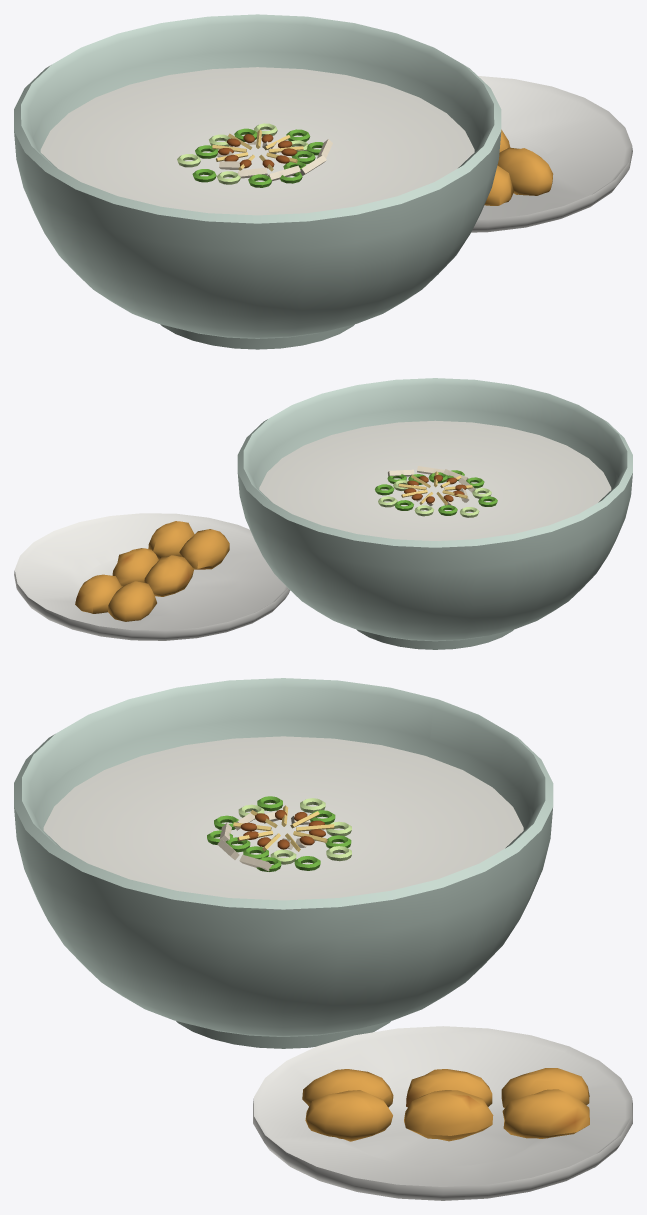
File: dish-congee-lod1.glb
The picture shows the model from 3 angles, top to bottom: view 1: azimuth 30°, elevation 25°; view 2: azimuth 150°, elevation 25°; view 3: azimuth 270°, elevation 25°; orthographic projection. The views are drawn at different scales.
Parts seen in each view (by area): view 1: congee.lod1__table celadon, congee.lod1__food glaze, congee.lod1__table porcelain, congee.lod1__food; view 2: congee.lod1__table celadon, congee.lod1__food glaze, congee.lod1__table porcelain, congee.lod1__food; view 3: congee.lod1__table celadon, congee.lod1__food glaze, congee.lod1__table porcelain, congee.lod1__food.
Boxes of the visible parts, box(x1,y1,x2,y2) form: congee.lod1__table celadon: box(14, 14, 501, 349); congee.lod1__food glaze: box(40, 67, 474, 215); congee.lod1__table porcelain: box(471, 76, 632, 232); congee.lod1__food: box(177, 123, 553, 205); congee.lod1__table celadon: box(237, 378, 632, 649); congee.lod1__food glaze: box(259, 420, 611, 540); congee.lod1__table porcelain: box(14, 513, 289, 640); congee.lod1__food: box(75, 466, 497, 621); congee.lod1__table celadon: box(14, 678, 553, 1048); congee.lod1__food glaze: box(43, 736, 523, 900); congee.lod1__table porcelain: box(253, 1026, 632, 1200); congee.lod1__food: box(207, 796, 589, 1141).
Size of the model in its own units: 0.255 by 0.072 by 0.1941.
